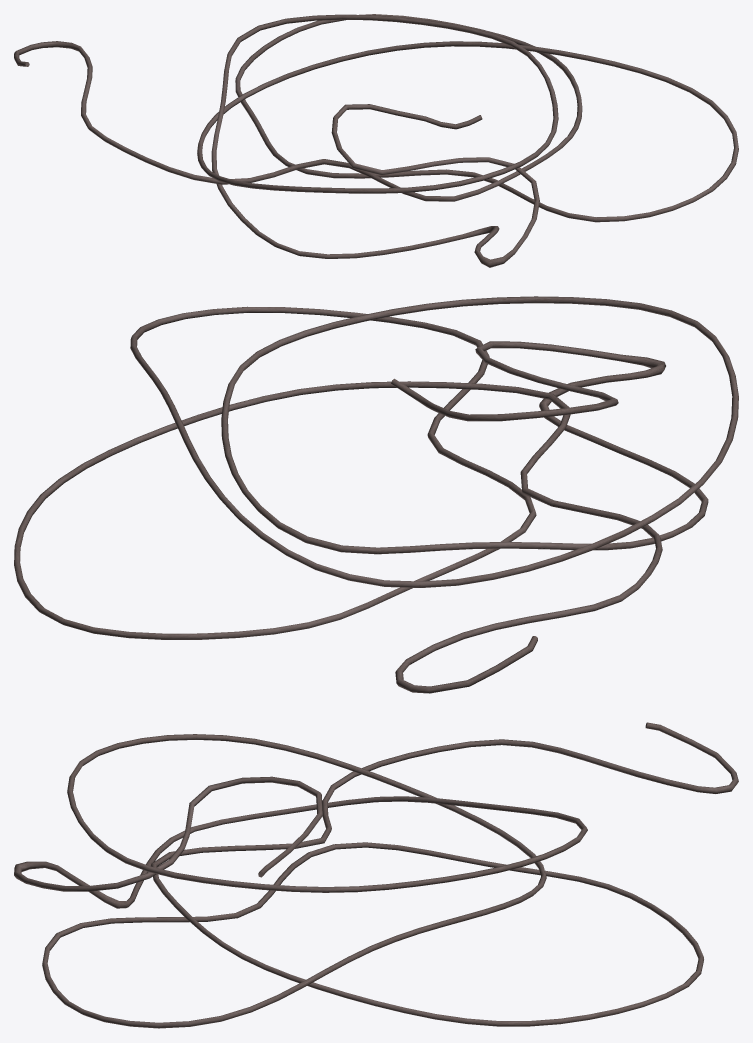
File: MOD_DebrisWires_A.fbx
The picture shows the model from 3 angles, top to bottom: view 1: azimuth 30°, elevation 25°; view 2: azimuth 150°, elevation 25°; view 3: azimuth 270°, elevation 25°; orthographic projection. The views are drawn at different scales.
Parts seen in each view (by area): view 1: MOD_DebrisWires_A; view 2: MOD_DebrisWires_A; view 3: MOD_DebrisWires_A.
Boxes of the visible parts, <box> form: MOD_DebrisWires_A: <box>14,14,738,267</box>; MOD_DebrisWires_A: <box>14,296,738,693</box>; MOD_DebrisWires_A: <box>14,722,738,1028</box>.
Size of the model in its own units: 103 by 17.9 by 115.
1 material, 1 textured.
